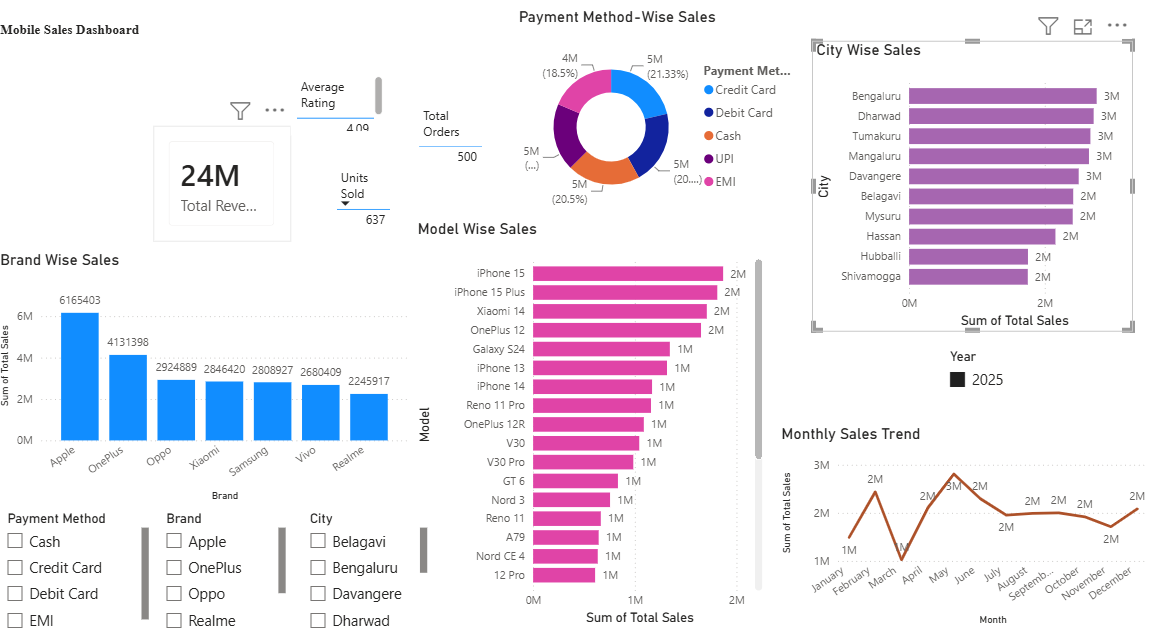

What the dashboard file says about the page in this screenshot:
{"tool":"powerbi","page":{"name":"Page 1","canvas":[1280,720],"ordinal":0},"visuals":[{"type":"cardVisual","fields":{"Data":["Sum(Sales.Total Sales)"]},"box":[216.7,20,177.8,104.4],"z":0},{"type":"tableEx","fields":{"Values":["Sum(Sales.Quantity)"]},"box":[377.8,124.4,78.9,78.9],"z":1000},{"type":"tableEx","fields":{"Values":["Sales.Sale ID"]},"box":[467.8,124.4,90,78.9],"z":2000},{"type":"tableEx","fields":{"Values":["Avg(Sales.Rating)"]},"box":[433.3,0,124.4,100],"z":3000},{"type":"clusteredColumnChart","title":"Brand Wise Sales ","fields":{"Category":["Sales.Brand"],"Y":["Sum(Sales.Total Sales)"]},"box":[10,290,457.8,280],"z":4000},{"type":"lineChart","title":"Monthly Sales Trend","fields":{"Y":["Sum(Sales.Total Sales)"],"Category":["Sales.Date.Variation.Date Hierarchy.Month"]},"box":[867.8,480,412.2,225.6],"z":5000},{"type":"donutChart","title":"Payment Method-Wise Sales","fields":{"Category":["Sales.Payment Method"],"Y":["Sum(Sales.Total Sales)"]},"box":[583.3,0,306.7,280],"z":6000},{"type":"barChart","title":"Model Wise Sales","fields":{"Category":["Sales.Model"],"Y":["Sum(Sales.Total Sales)"]},"box":[467.8,280,388.9,440],"z":7000},{"type":"clusteredBarChart","title":"City Wise Sales","fields":{"Category":["Sales.City"],"Y":["Sum(Sales.Total Sales)"]},"box":[905.6,10,352.2,324.4],"z":8000},{"type":"slicer","fields":{"Values":["Sales.Payment Method"]},"box":[10,570,173.3,150],"z":9000},{"type":"slicer","fields":{"Values":["Sales.Brand"]},"box":[183.3,570,148.9,150],"z":10000},{"type":"slicer","fields":{"Values":["Sales.City"]},"box":[341.1,570,146.7,150],"z":11000},{"type":"slicer","fields":{"Values":["Sales.Date.Variation.Date Hierarchy.Year"]},"box":[487.8,570,140,84.4],"z":12000},{"type":"textbox","box":[0,0,166.7,50],"z":13000}]}

Visuals, with their boxes in screenshot pixels (x1, y1, x2, y2), scaled from the page's 1280x720 canvas onto the 1150x642 screenshot:
cardVisual - Sum(Sales.Total Sales): bbox=(195, 18, 354, 111)
tableEx - Sum(Sales.Quantity): bbox=(339, 111, 410, 181)
tableEx - Sales.Sale ID: bbox=(420, 111, 501, 181)
tableEx - Avg(Sales.Rating): bbox=(389, 0, 501, 89)
"Brand Wise Sales " clusteredColumnChart: bbox=(9, 259, 420, 508)
"Monthly Sales Trend" lineChart: bbox=(780, 428, 1149, 629)
"Payment Method-Wise Sales" donutChart: bbox=(524, 0, 800, 250)
"Model Wise Sales" barChart: bbox=(420, 250, 770, 641)
"City Wise Sales" clusteredBarChart: bbox=(814, 9, 1130, 298)
slicer - Sales.Payment Method: bbox=(9, 508, 165, 641)
slicer - Sales.Brand: bbox=(165, 508, 298, 641)
slicer - Sales.City: bbox=(306, 508, 438, 641)
slicer - Sales.Date.Variation.Date Hierarchy.Year: bbox=(438, 508, 564, 584)
textbox: bbox=(0, 0, 150, 45)
